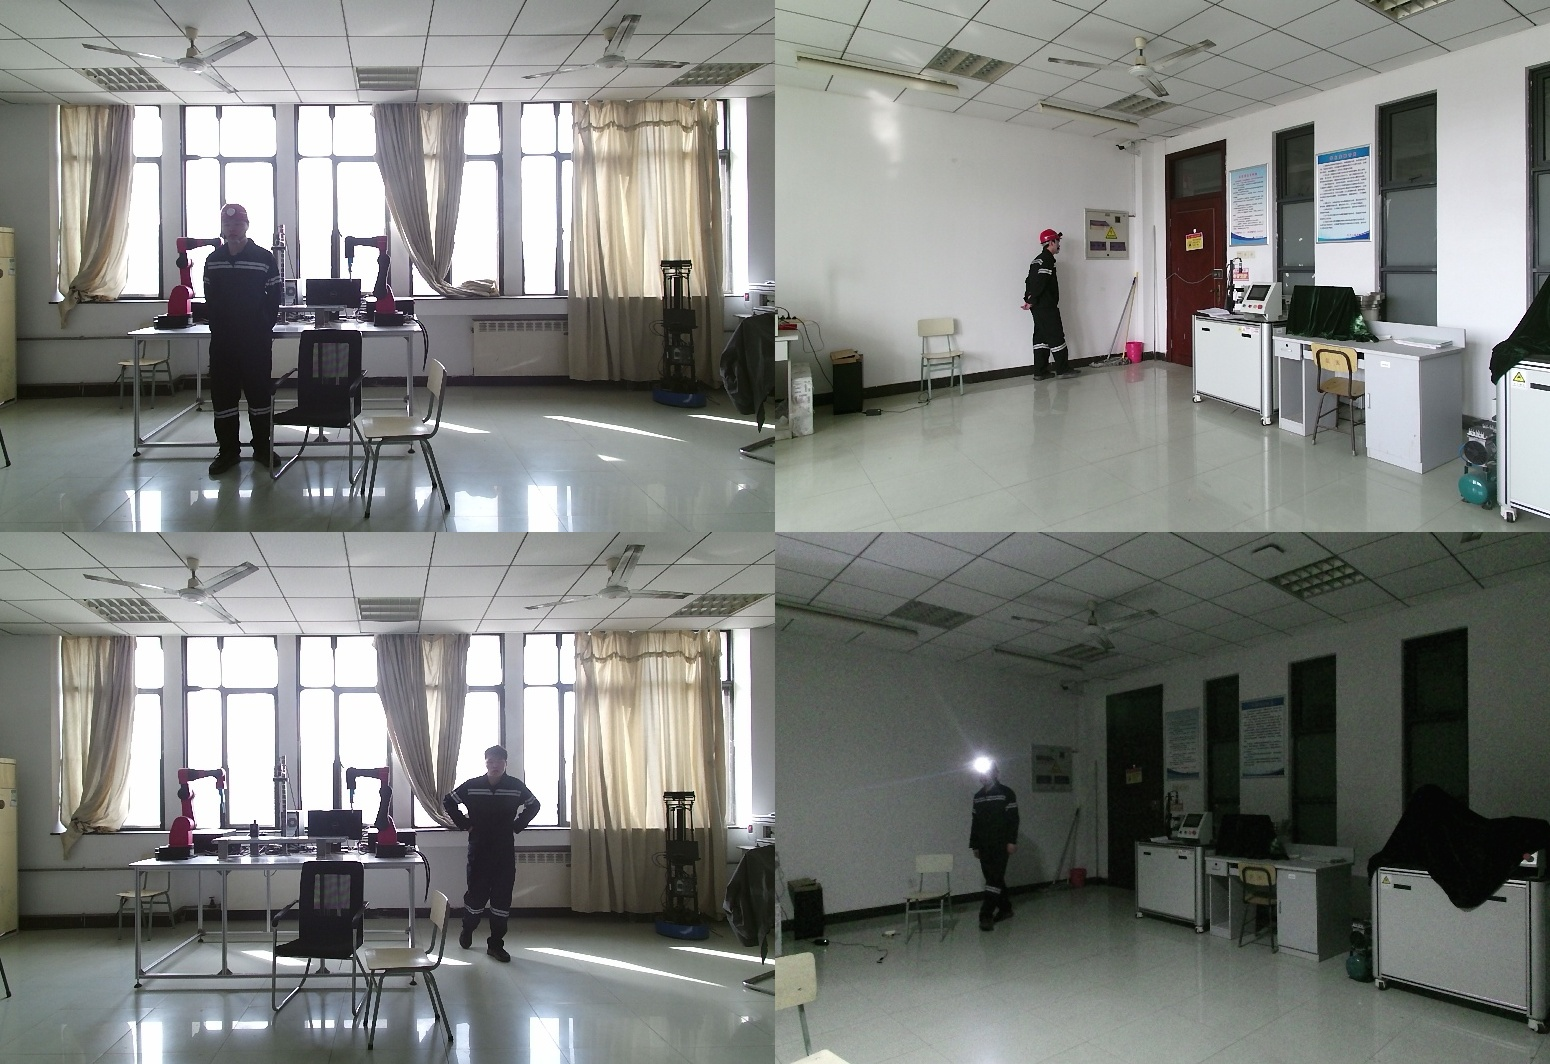person: (204, 205, 289, 478), (446, 750, 540, 967), (967, 760, 1026, 928), (1021, 229, 1064, 385)
